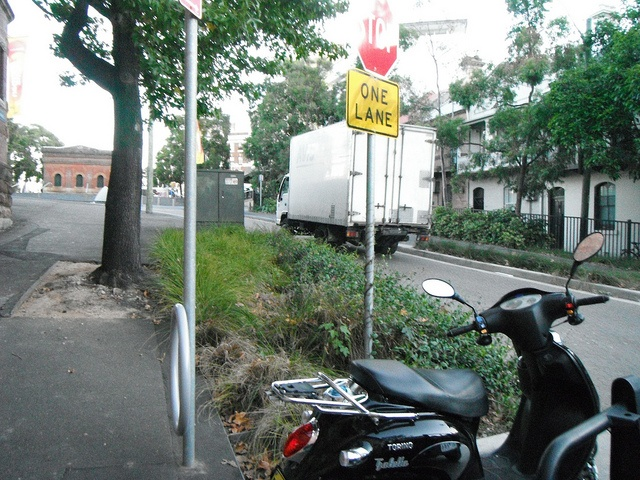motorcycle: (267, 230, 640, 480)
stop sign: (356, 0, 640, 77)
truck: (272, 123, 640, 377), (373, 125, 640, 379)
